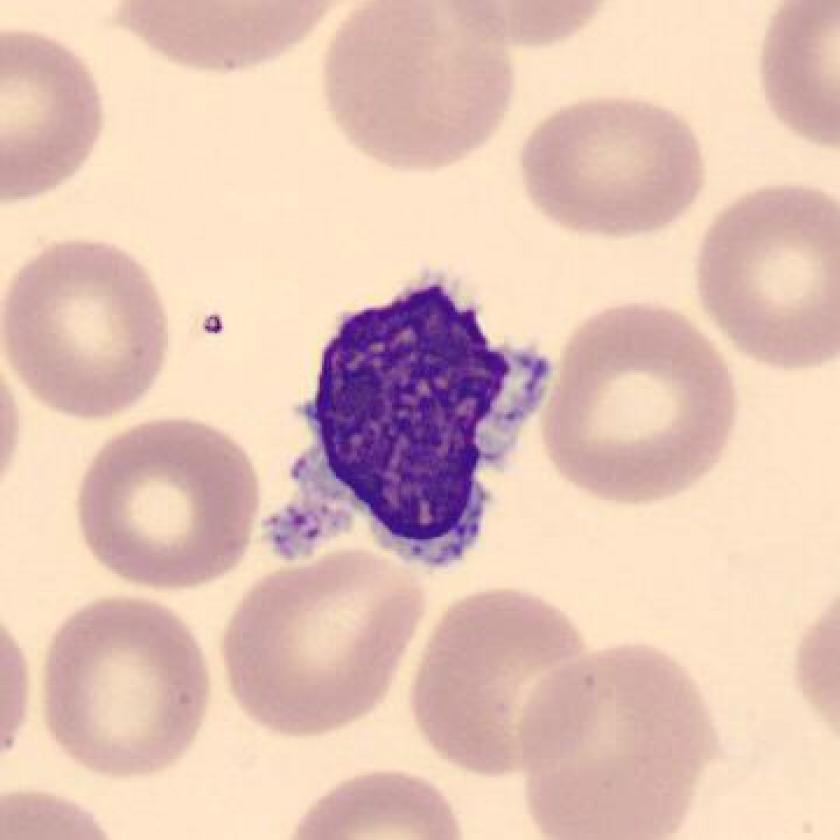lymphocyte: (255, 276, 559, 591)
